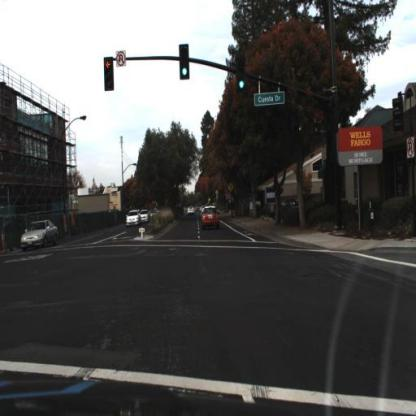car: (18, 219, 60, 254), (198, 203, 222, 231), (124, 208, 143, 231), (138, 208, 152, 224)
trafficLight-Green: (179, 44, 191, 82), (237, 62, 247, 96)
trafficLight-RedLeft: (105, 57, 115, 92)
